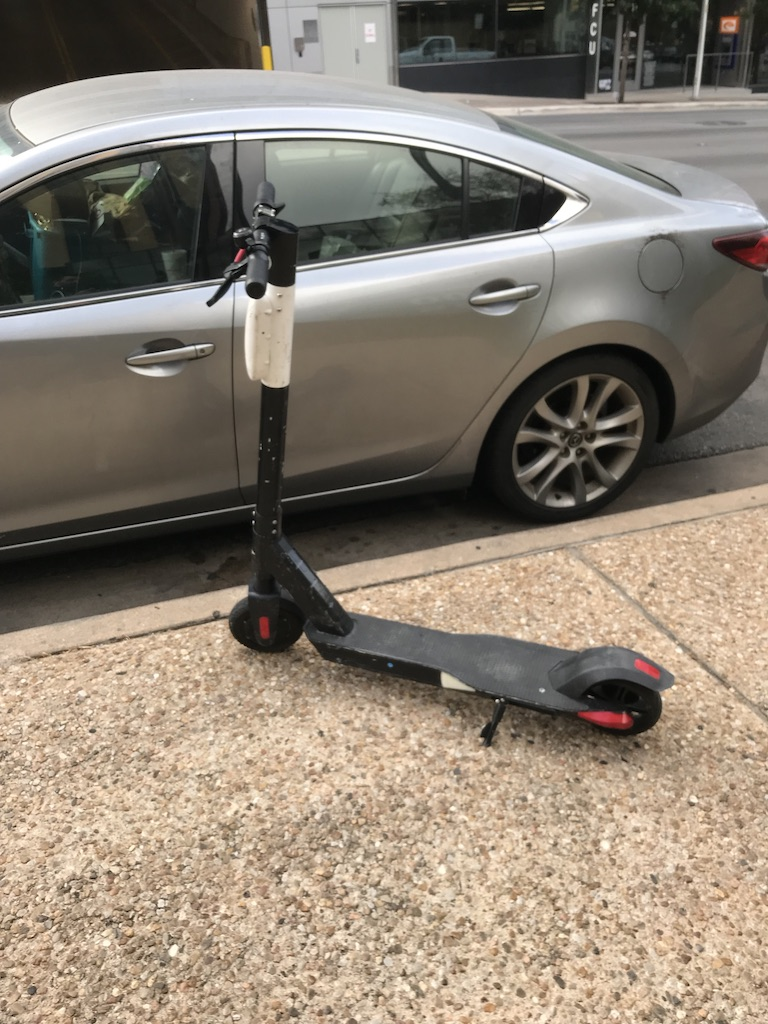scooter: (208, 181, 679, 744)
